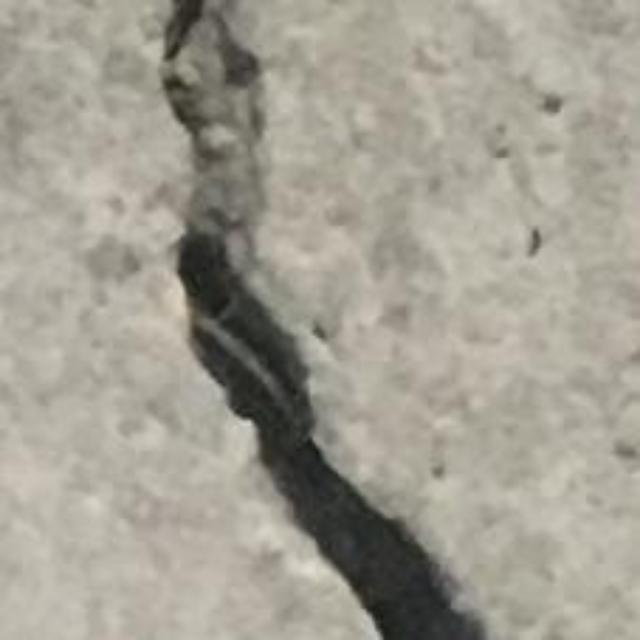crack: (164, 0, 484, 639)
